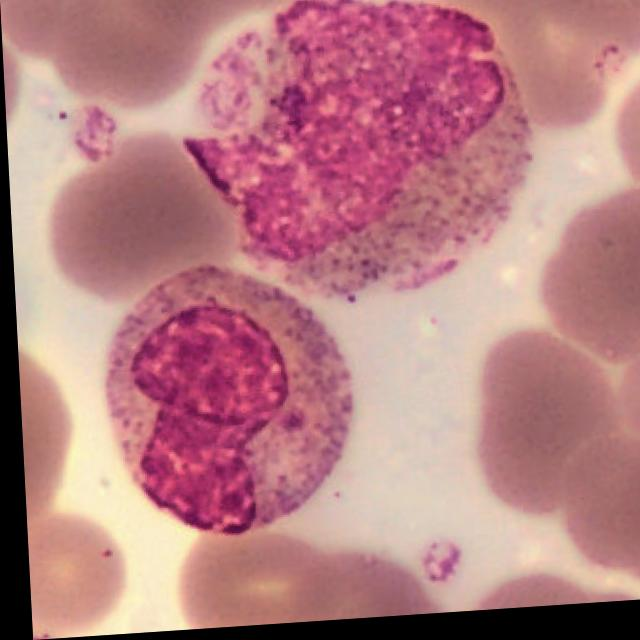Metamielocito: (99, 265, 347, 536)
Restos celulares: (183, 0, 528, 306)
